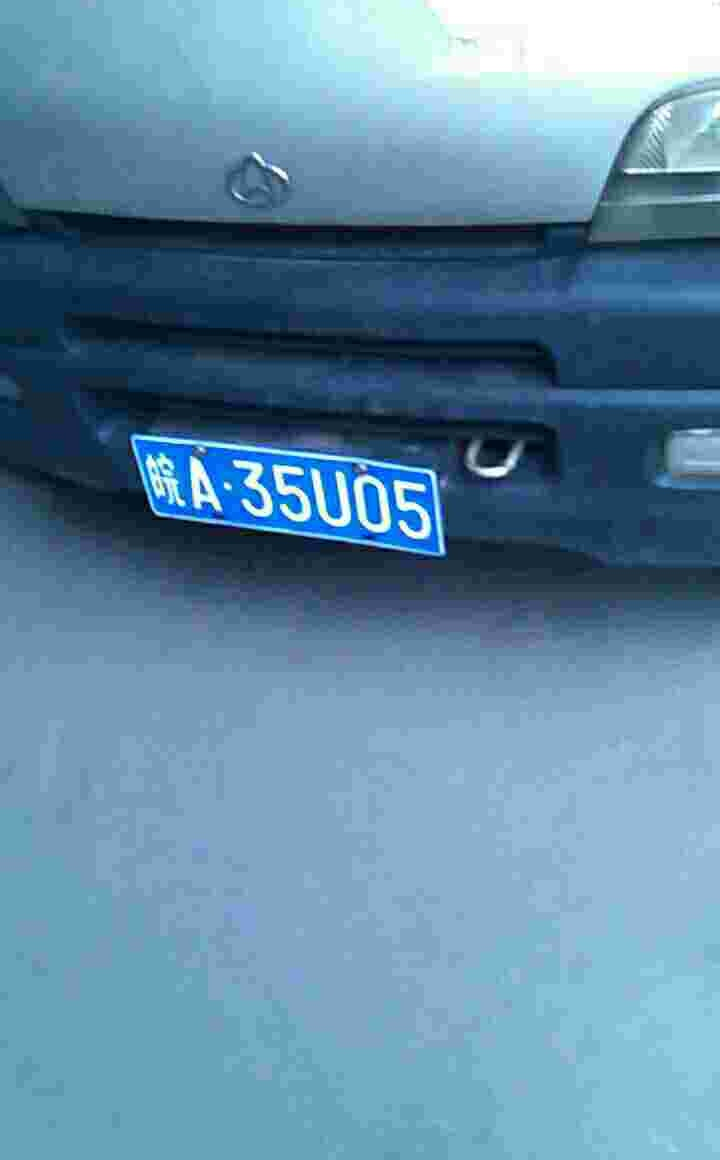license_plate: (137, 435, 433, 551)
